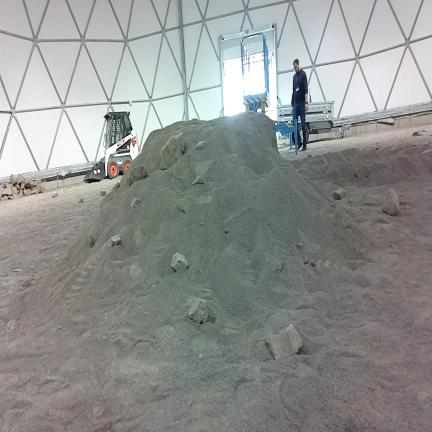Rock: (266, 325, 302, 359), (160, 133, 184, 169), (188, 298, 215, 324), (382, 190, 399, 215), (128, 165, 147, 185), (172, 253, 189, 271), (336, 208, 351, 228), (355, 165, 370, 178), (270, 258, 282, 274), (333, 188, 345, 200), (179, 199, 188, 213), (88, 233, 96, 247), (193, 175, 204, 185), (2, 184, 12, 195), (7, 320, 16, 332), (196, 141, 206, 150), (111, 235, 120, 245), (9, 174, 17, 185), (131, 198, 139, 209), (22, 278, 31, 287), (28, 181, 37, 189), (17, 174, 24, 184), (20, 179, 26, 190), (412, 130, 422, 136), (324, 260, 331, 268), (421, 149, 431, 154), (113, 182, 120, 189), (296, 242, 303, 249), (304, 255, 309, 264), (12, 186, 17, 195), (31, 188, 38, 194), (24, 189, 31, 195), (311, 260, 316, 267), (18, 190, 23, 197), (40, 186, 45, 193), (0, 181, 4, 189), (100, 191, 106, 196), (52, 192, 57, 198), (79, 198, 83, 203), (0, 197, 4, 201)
